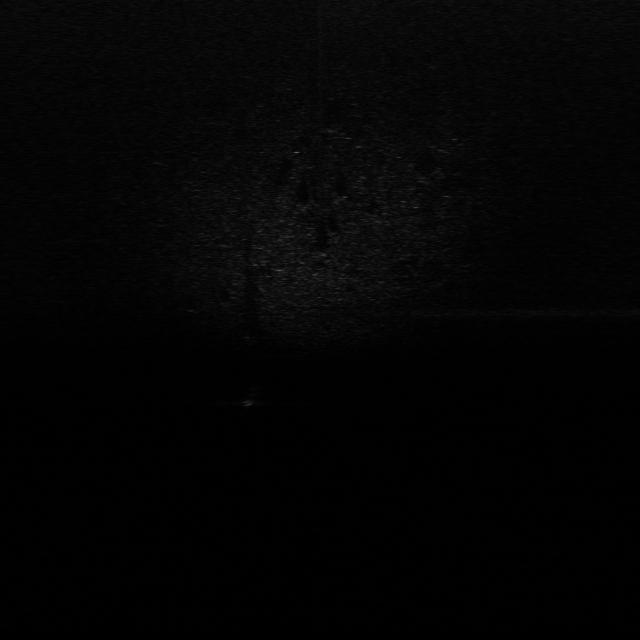human body: (237, 379, 267, 421)
